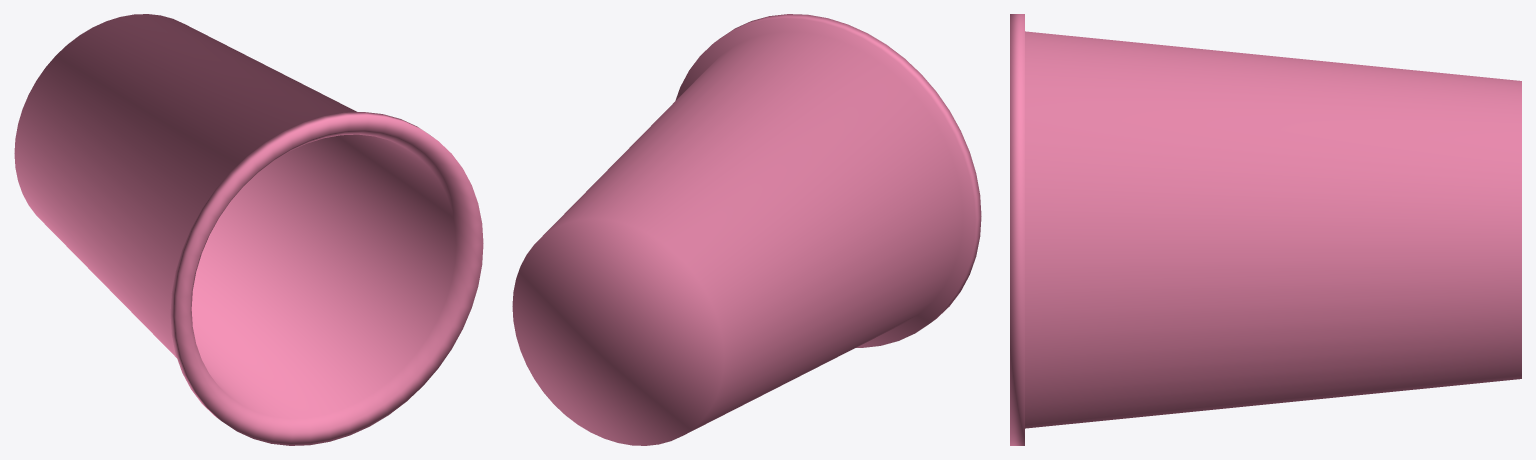
The model's file is Cup_Pink.obj.
3 views of the same model, side by side, from view 1: azimuth 30°, elevation 25°; view 2: azimuth 150°, elevation 25°; view 3: azimuth 270°, elevation 25° (orthographic). The views are drawn at different scales.
Parts seen in each view (by area): view 1: Cup_Pink; view 2: Cup_Pink; view 3: Cup_Pink.
Boxes of the visible parts, x1,y1,x2,y2 form: Cup_Pink: (14, 14, 483, 445); Cup_Pink: (512, 14, 981, 445); Cup_Pink: (1010, 14, 1521, 445).
Bounding box in the file's own units: 0.087 × 0.087 × 0.103.
